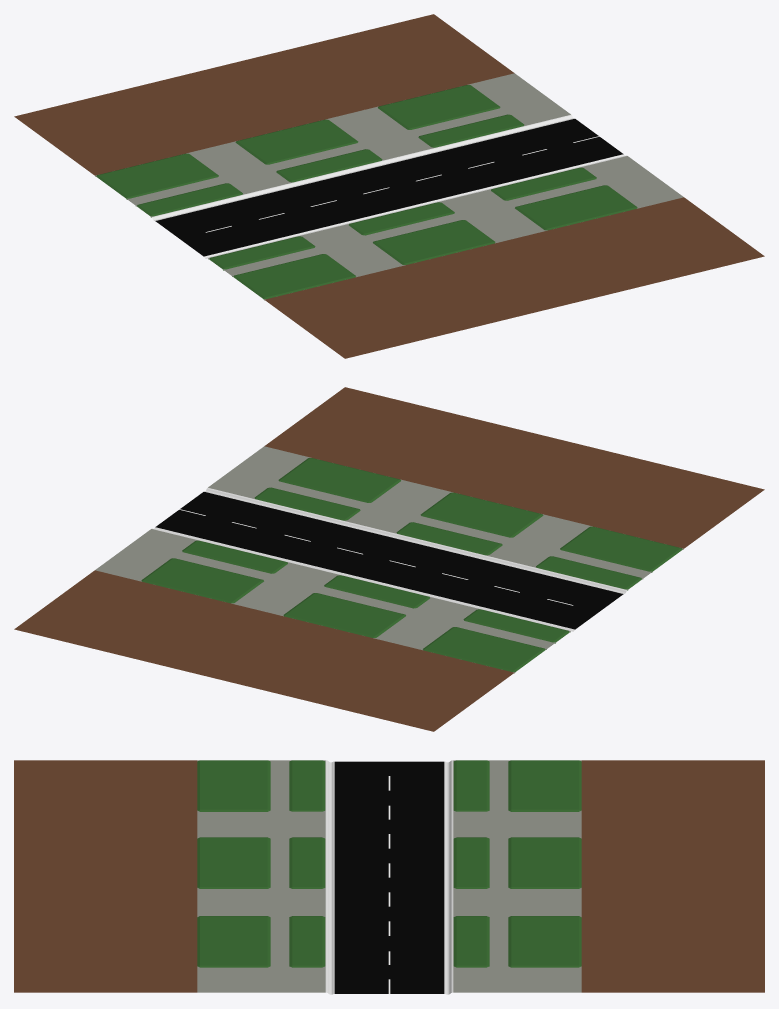
Rendered from Calle.fbx.
3 renders of one model, top to bottom at view 1: azimuth 30°, elevation 25°; view 2: azimuth 150°, elevation 25°; view 3: azimuth 270°, elevation 25°, orthographic. The views are drawn at different scales.
Parts seen in each view (by area): view 1: Plane.007, Plane, Plane.004, Plane.006, Plane.009, Plane.012, Plane.013, Plane.003, Plane.011, Plane.010, Cylinder.001, Cylinder; view 2: Plane.007, Plane, Plane.004, Plane.006, Plane.009, Plane.012, Plane.013, Plane.003, Plane.011, Plane.010, Cylinder, Cylinder.001; view 3: Plane.007, Plane, Plane.004, Plane.006, Plane.012, Plane.013, Plane.009, Plane.003, Plane.010, Plane.011, Cylinder, Cylinder.001.
Boxes of the visible parts, x1,y1,x2,y2 form: Plane.007: (14, 14, 764, 358); Plane: (155, 119, 623, 256); Plane.004: (127, 97, 651, 275); Plane.006: (95, 73, 683, 299); Plane.009: (95, 153, 355, 300); Plane.012: (235, 119, 495, 264); Plane.013: (378, 85, 637, 230); Plane.003: (136, 183, 315, 270); Plane.011: (418, 114, 596, 200); Plane.010: (276, 149, 454, 235); Cylinder.001: (151, 114, 574, 220); Cylinder: (204, 154, 627, 258); Plane.007: (14, 387, 764, 731); Plane: (155, 492, 623, 629); Plane.004: (127, 470, 651, 648); Plane.006: (95, 446, 683, 672); Plane.009: (423, 526, 683, 673); Plane.012: (283, 492, 543, 637); Plane.013: (141, 458, 400, 603); Plane.003: (463, 556, 642, 643); Plane.011: (182, 487, 360, 573); Plane.010: (324, 522, 502, 608); Cylinder: (204, 487, 627, 593); Cylinder.001: (151, 527, 574, 631); Plane.007: (14, 760, 764, 992); Plane: (334, 761, 444, 993); Plane.004: (270, 760, 508, 992); Plane.006: (197, 760, 581, 992); Plane.012: (197, 837, 581, 888); Plane.013: (197, 916, 581, 967); Plane.009: (197, 760, 581, 811); Plane.003: (289, 760, 489, 811); Plane.010: (289, 837, 489, 888); Plane.011: (289, 916, 489, 967); Cylinder: (325, 760, 334, 994); Cylinder.001: (444, 760, 453, 994).
Size of the model in its own units: 4097 by 3000 by 17.69.
Materials: 1 (1 with a texture image).
